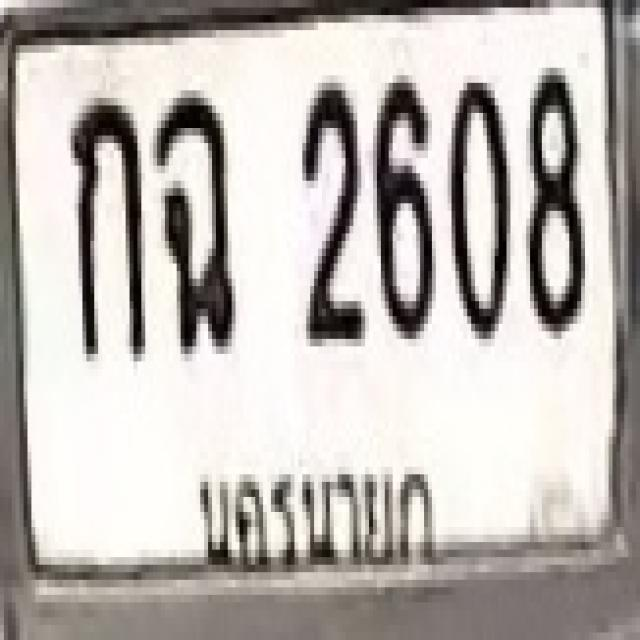0: (446, 72, 508, 335)
2: (298, 75, 362, 339)
6: (369, 68, 432, 331)
8: (522, 64, 581, 328)
A01: (67, 90, 141, 354)
A09: (153, 87, 232, 350)
NYK: (182, 434, 445, 578)
